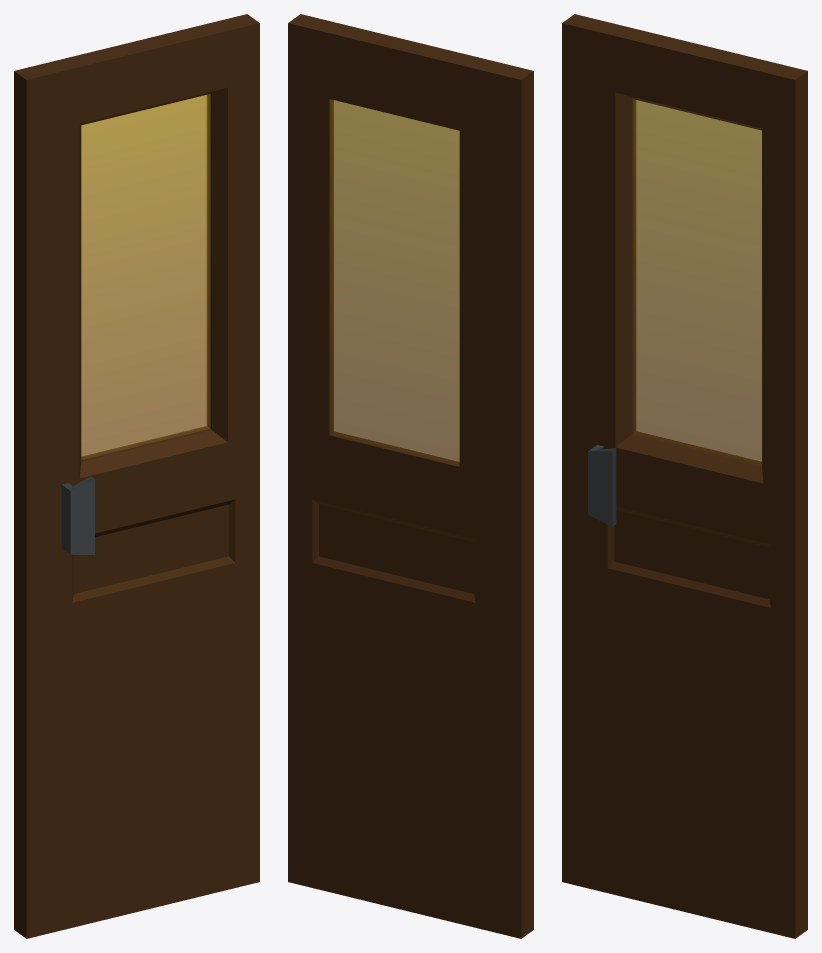
File: SM_Buildings_Bank_Door_R.fbx
3 renders of one model, left to right at view 1: azimuth 30°, elevation 25°; view 2: azimuth 150°, elevation 25°; view 3: azimuth 330°, elevation 25°, orthographic.
Parts seen in each view (by area): view 1: SM_Buildings_Bank_Door_R; view 2: SM_Buildings_Bank_Door_R; view 3: SM_Buildings_Bank_Door_R.
Boxes of the visible parts, <box> form: SM_Buildings_Bank_Door_R: <box>14,14,259,938</box>; SM_Buildings_Bank_Door_R: <box>288,14,533,938</box>; SM_Buildings_Bank_Door_R: <box>562,14,807,938</box>.
Size of the model in its own units: 0.6981 by 2.46 by 0.1116.
